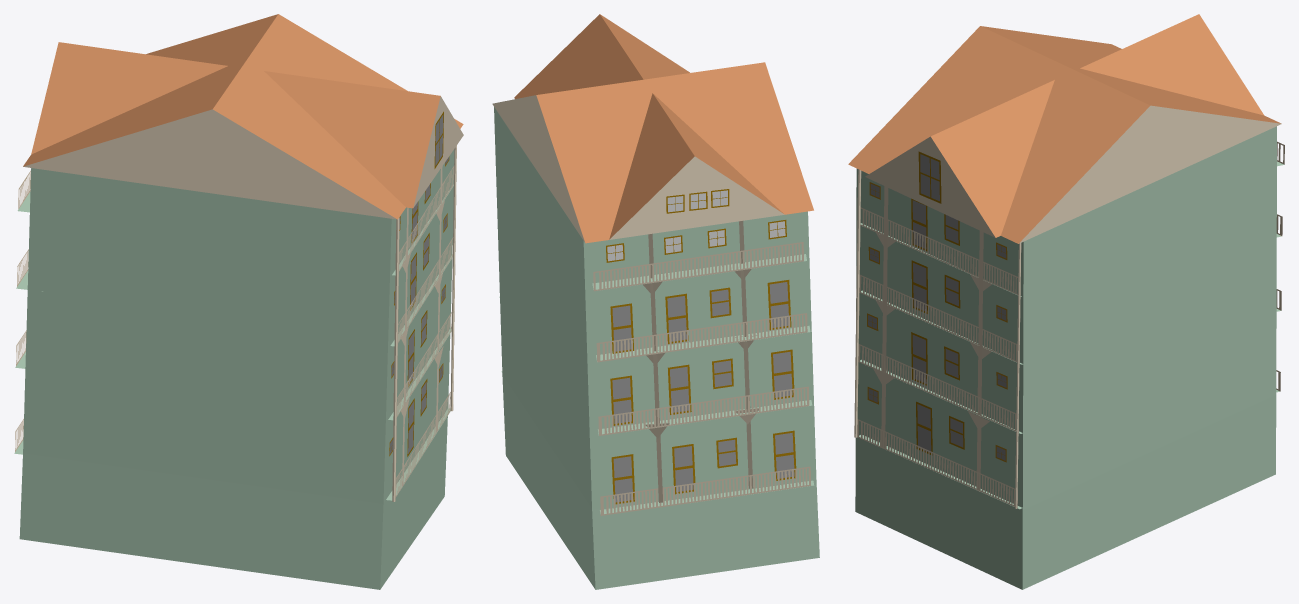
The model's file is GiftShop.gltf.
The picture shows the model from 3 angles, left to right: view 1: azimuth 30°, elevation 25°; view 2: azimuth 150°, elevation 25°; view 3: azimuth 270°, elevation 25°; orthographic projection. The views are drawn at different scales.
Visible parts, largest first — view 1: Mesh68 Component_1_1 Model, Mesh65 Component_1_1 Model, Mesh59 Component_1_1 Model, Mesh1 Group1 Component_1_1 Model, Mesh63 Component_1_1 Model, Mesh64 Component_1_1 Model, Mesh66 Component_1_1 Model, Mesh61 Component_1_1 Model; view 2: Mesh68 Component_1_1 Model, Mesh30 Group8 Component_1_1 Model, Mesh29 Group8 Component_1_1 Model, Mesh31 Group8 Component_1_1 Model, Mesh32 Group8 Component_1_1 Model, Mesh57 Group16 Component_1_1 Model, Mesh47 Group10 Component_1_1 Model, Mesh78 Component_1_1 Model, Mesh67 Component_1_1 Model, Mesh70 Component_1_1 Model, Mesh76 Component_1_1 Model, Mesh69 Component_1_1 Model (+11 smaller); view 3: Mesh68 Component_1_1 Model, Mesh65 Component_1_1 Model, Mesh59 Component_1_1 Model, Mesh63 Component_1_1 Model, Mesh64 Component_1_1 Model, Mesh61 Component_1_1 Model, Mesh60 Component_1_1 Model, Mesh1 Group1 Component_1_1 Model, Mesh66 Component_1_1 Model.
Part boxes in pixels (left/top/right/bottom): Mesh68 Component_1_1 Model: left=19, top=14, right=463, bottom=589; Mesh65 Component_1_1 Model: left=395, top=392, right=450, bottom=497; Mesh59 Component_1_1 Model: left=396, top=311, right=452, bottom=417; Mesh1 Group1 Component_1_1 Model: left=392, top=232, right=399, bottom=501; Mesh63 Component_1_1 Model: left=398, top=237, right=453, bottom=342; Mesh64 Component_1_1 Model: left=399, top=165, right=454, bottom=271; Mesh66 Component_1_1 Model: left=450, top=145, right=456, bottom=411; Mesh61 Component_1_1 Model: left=402, top=207, right=408, bottom=485; Mesh68 Component_1_1 Model: left=492, top=14, right=819, bottom=589; Mesh30 Group8 Component_1_1 Model: left=598, top=386, right=809, bottom=435; Mesh29 Group8 Component_1_1 Model: left=596, top=313, right=807, bottom=362; Mesh31 Group8 Component_1_1 Model: left=593, top=242, right=803, bottom=291; Mesh32 Group8 Component_1_1 Model: left=600, top=466, right=811, bottom=515; Mesh57 Group16 Component_1_1 Model: left=648, top=233, right=662, bottom=502; Mesh47 Group10 Component_1_1 Model: left=739, top=221, right=753, bottom=488; Mesh78 Component_1_1 Model: left=668, top=364, right=691, bottom=414; Mesh67 Component_1_1 Model: left=771, top=349, right=794, bottom=399; Mesh70 Component_1_1 Model: left=767, top=280, right=791, bottom=330; Mesh76 Component_1_1 Model: left=773, top=430, right=796, bottom=480; Mesh69 Component_1_1 Model: left=611, top=454, right=634, bottom=504; Mesh68 Component_1_1 Model: left=848, top=14, right=1281, bottom=589; Mesh65 Component_1_1 Model: left=857, top=419, right=1017, bottom=507; Mesh59 Component_1_1 Model: left=858, top=344, right=1018, bottom=432; Mesh63 Component_1_1 Model: left=859, top=274, right=1019, bottom=363; Mesh64 Component_1_1 Model: left=860, top=207, right=1018, bottom=294; Mesh61 Component_1_1 Model: left=881, top=186, right=888, bottom=447; Mesh60 Component_1_1 Model: left=976, top=231, right=983, bottom=492; Mesh1 Group1 Component_1_1 Model: left=854, top=185, right=860, bottom=437; Mesh66 Component_1_1 Model: left=1015, top=243, right=1021, bottom=508.
Size of the model in its own units: 1541 by 1728 by 1536.
